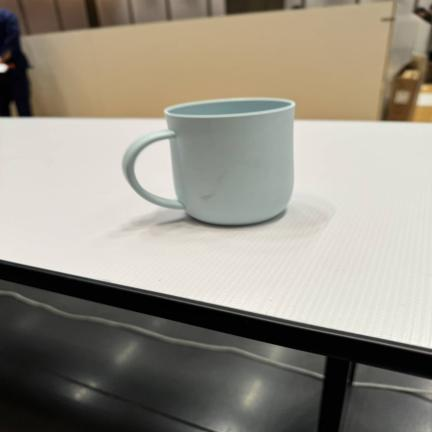cup: (123, 98, 295, 225)
